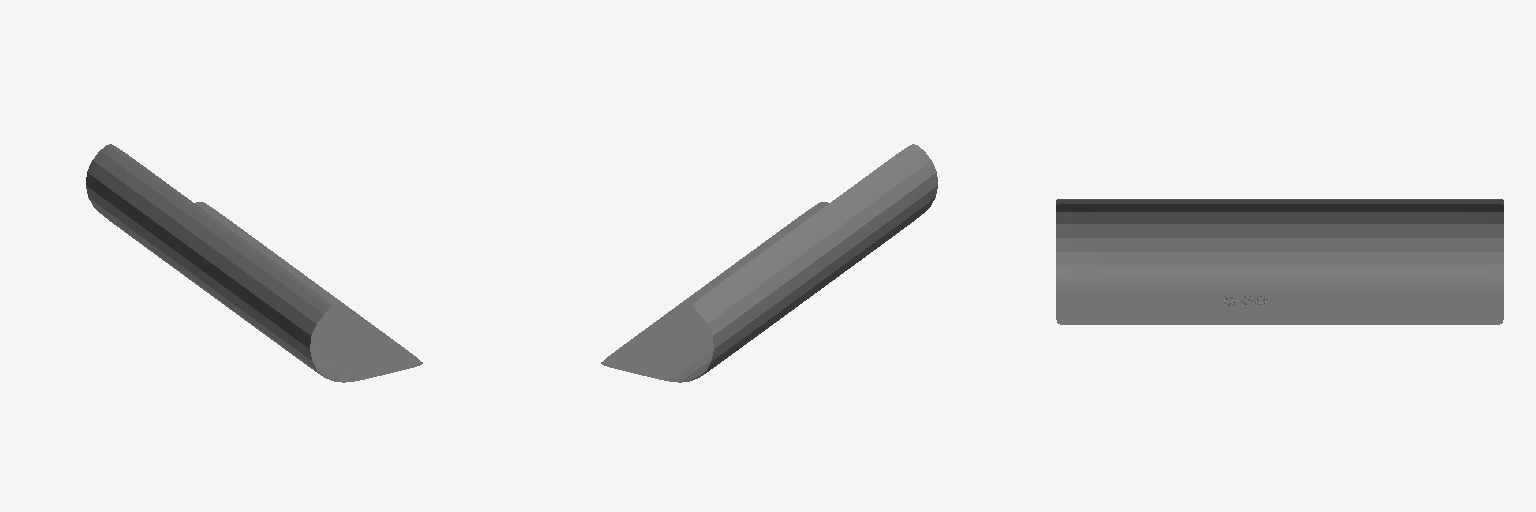
File: snowflakePack.obj
3 views of the same model, side by side, from view 1: azimuth 30°, elevation 25°; view 2: azimuth 150°, elevation 25°; view 3: azimuth 270°, elevation 25° (orthographic).
Parts seen in each view (by area): view 1: Plane; view 2: Plane; view 3: Plane.
Boxes of the visible parts, x1=… form: Plane: x1=86, y1=144, x2=422, y2=382; Plane: x1=601, y1=144, x2=937, y2=382; Plane: x1=1056, y1=199, x2=1503, y2=324.
Size of the model in its own units: 5.68 by 3.76 by 18.78.